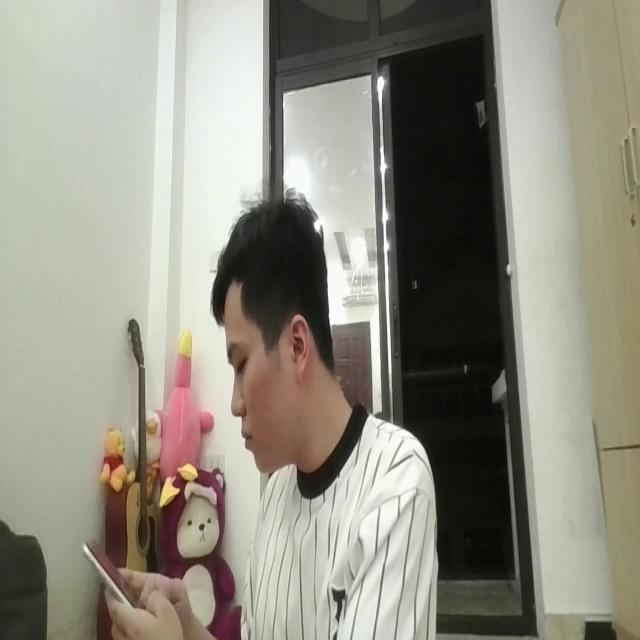phone: (81, 529, 142, 616)
student: (210, 186, 439, 640)
